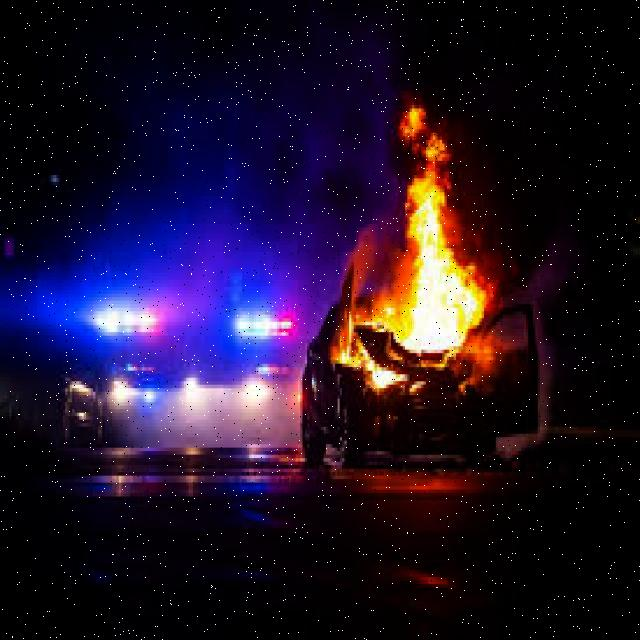fire: (384, 104, 494, 369)
light: (90, 290, 167, 346), (229, 305, 303, 349)
